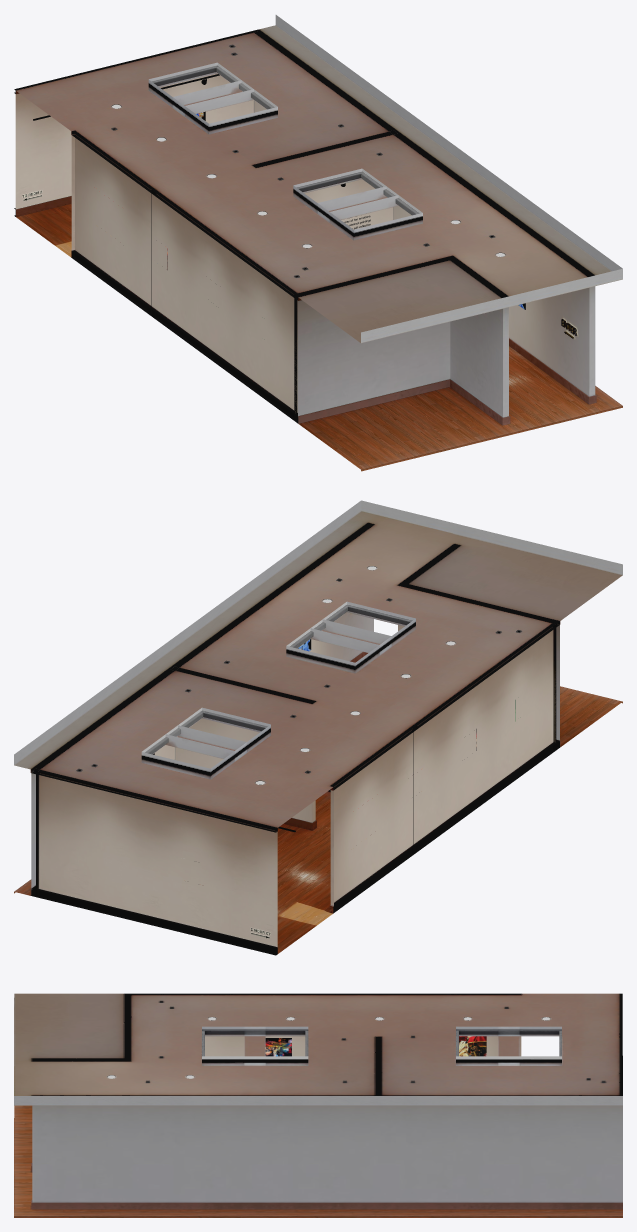
File: room_1.glb
3 views of the same model, one above another, from view 1: azimuth 30°, elevation 25°; view 2: azimuth 150°, elevation 25°; view 3: azimuth 270°, elevation 25° (orthographic). The views are drawn at different scales.
Parts seen in each view (by area): view 1: room_1; view 2: room_1; view 3: room_1.
Part boxes in pixels (<box>): room_1: <box>14,15,622,471</box>; room_1: <box>14,500,622,955</box>; room_1: <box>14,993,622,1217</box>.
Bounding box in the file's own units: 7.59 × 3.85 × 17.43.
Materials: 4 (4 with a texture image).
